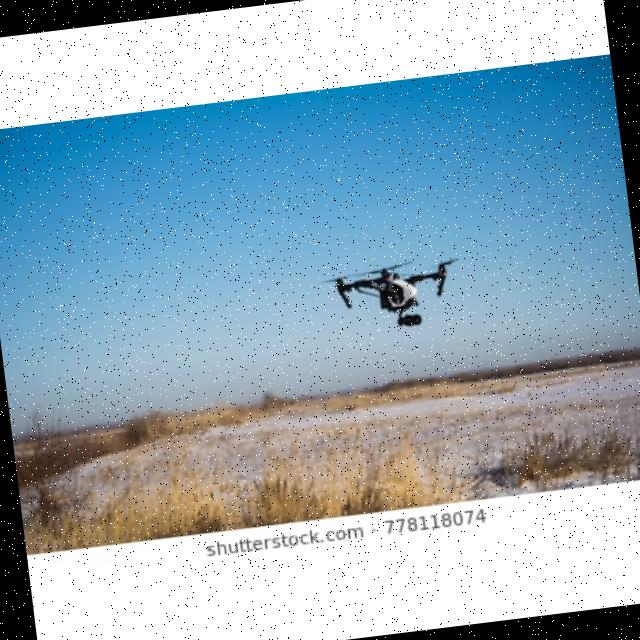Drones: (329, 256, 454, 320)
